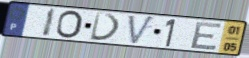1: (164, 18, 177, 48)
D: (89, 11, 123, 42)
E: (189, 21, 225, 51)
I: (40, 7, 58, 38)
O: (53, 9, 84, 40)
V: (127, 14, 157, 46)
